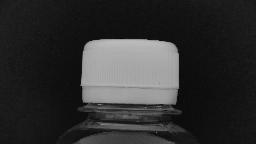Good Cap: (75, 35, 183, 118)
